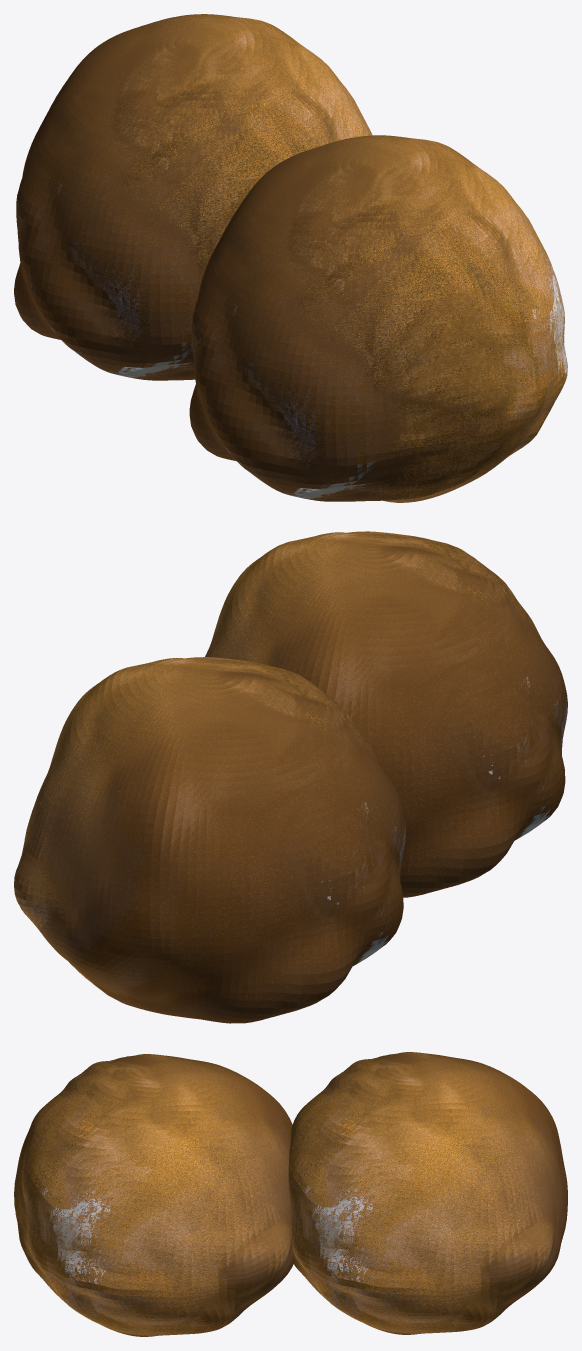
File: divisiOn2.fbx
The picture shows the model from 3 angles, top to bottom: view 1: azimuth 30°, elevation 25°; view 2: azimuth 150°, elevation 25°; view 3: azimuth 270°, elevation 25°; orthographic projection. The views are drawn at different scales.
Visible parts, largest first — view 1: 2k_sun.003, 2k_sun.001; view 2: 2k_sun.001, 2k_sun.003; view 3: 2k_sun.001, 2k_sun.003.
Boxes of the visible parts, x1=… form: 2k_sun.003: x1=189, y1=135, x2=567, y2=502; 2k_sun.001: x1=14, y1=14, x2=372, y2=380; 2k_sun.001: x1=14, y1=657, x2=406, y2=1023; 2k_sun.003: x1=205, y1=531, x2=567, y2=897; 2k_sun.001: x1=288, y1=1052, x2=567, y2=1334; 2k_sun.003: x1=14, y1=1054, x2=294, y2=1336.
Size of the model in its own units: 31.93 by 30.82 by 58.87.
Materials: 2 (1 with a texture image).
